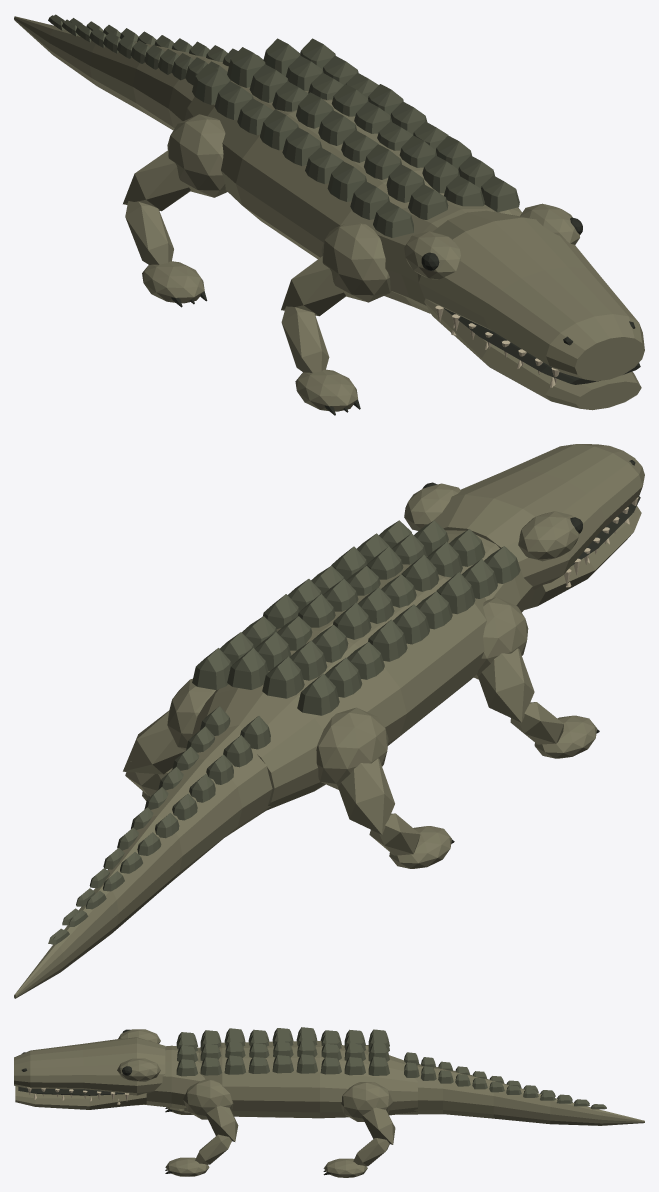
3 views of the same model, one above another, from view 1: azimuth 30°, elevation 25°; view 2: azimuth 150°, elevation 25°; view 3: azimuth 270°, elevation 25° (orthographic). The views are drawn at different scales.
Parts seen in each view (by area): view 1: surface_olive_brown, surface_thick_dark_armor, surface_eyes_mouth_claws, surface_teeth; view 2: surface_olive_brown, surface_thick_dark_armor, surface_eyes_mouth_claws; view 3: surface_olive_brown, surface_thick_dark_armor, surface_eyes_mouth_claws, surface_teeth.
Part boxes in pixels (box(x1,y1,x2,y2)): surface_olive_brown: box(14, 16, 644, 411); surface_thick_dark_armor: box(48, 14, 519, 237); surface_eyes_mouth_claws: box(171, 217, 640, 415); surface_teeth: box(435, 305, 559, 387); surface_olive_brown: box(14, 444, 644, 998); surface_thick_dark_armor: box(48, 520, 520, 944); surface_eyes_mouth_claws: box(422, 460, 640, 843); surface_olive_brown: box(14, 1029, 644, 1177); surface_thick_dark_armor: box(176, 1027, 606, 1109); surface_eyes_mouth_claws: box(18, 1029, 330, 1175); surface_teeth: box(27, 1087, 128, 1104).
Bounding box in the file's own units: 0.2857 × 0.189 × 1.
